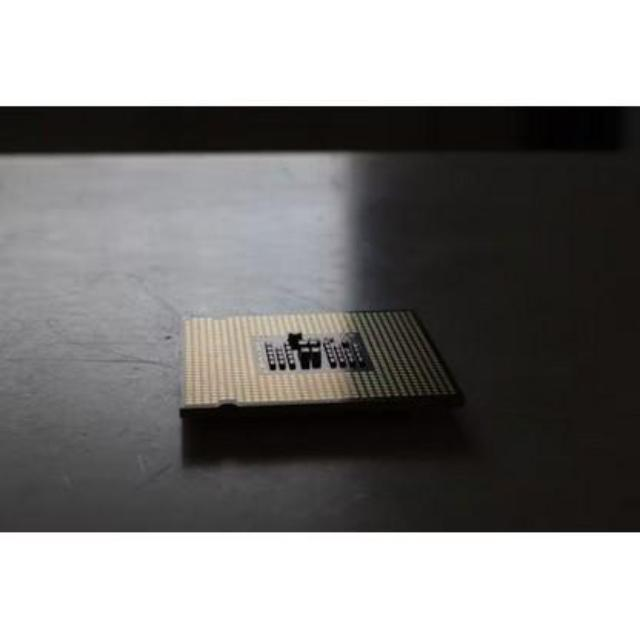CPU: (177, 307, 460, 416)
